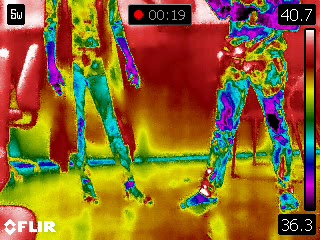human: (178, 1, 302, 214), (39, 1, 155, 206)
